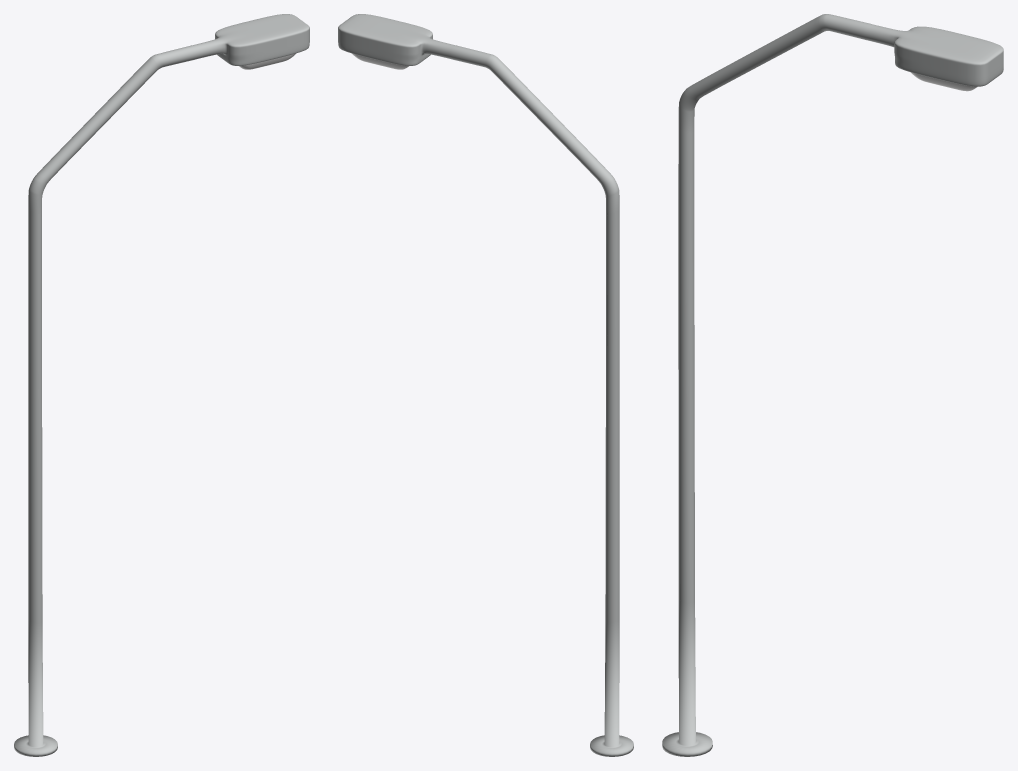
Rendered from StreetLamp.glb.
3 views of the same model, side by side, from view 1: azimuth 30°, elevation 25°; view 2: azimuth 150°, elevation 25°; view 3: azimuth 330°, elevation 25° (orthographic). The views are drawn at different scales.
Visible parts, largest first — view 1: Cube; view 2: Cube; view 3: Cube.
Part boxes in pixels (left/top/right/bottom): Cube: left=14, top=14, right=309, bottom=756; Cube: left=338, top=14, right=633, bottom=756; Cube: left=662, top=14, right=1003, bottom=756.
Size of the model in its own units: 5.5 by 12.23 by 0.8356.
Materials: 2 (1 with a texture image).
